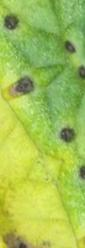Tomato Early blight leaf: (0, 30, 85, 218)
